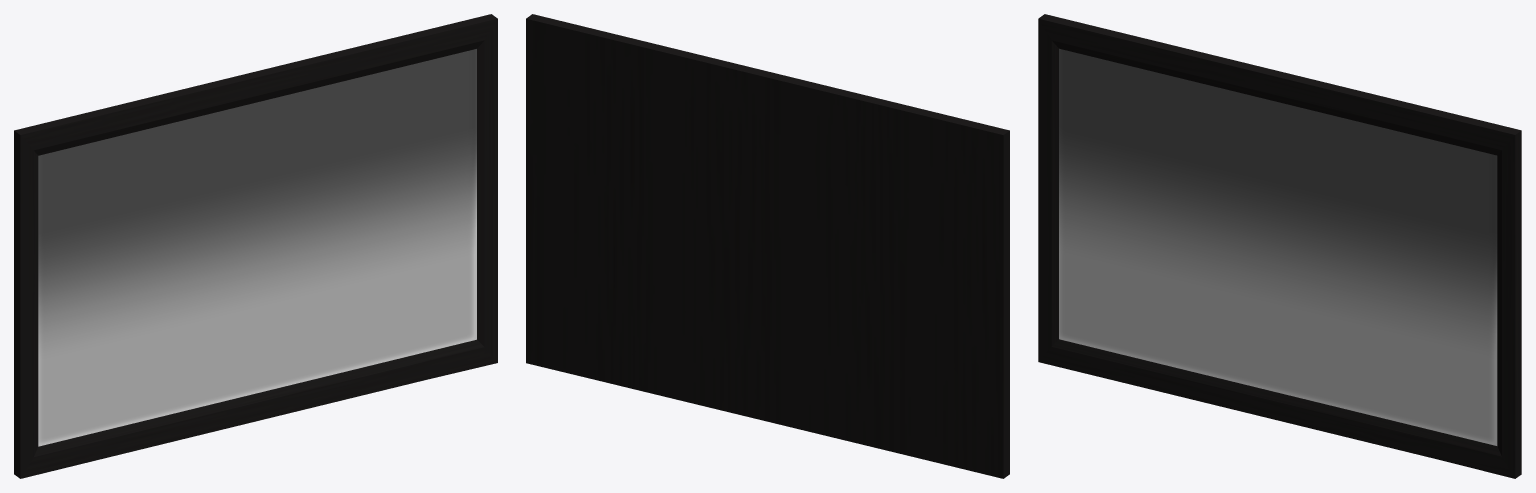
File: Mirror_F.FBX
The picture shows the model from 3 angles, left to right: view 1: azimuth 30°, elevation 25°; view 2: azimuth 150°, elevation 25°; view 3: azimuth 330°, elevation 25°; orthographic projection.
Visible parts, largest first — view 1: Mirror; view 2: Mirror; view 3: Mirror.
Part boxes in pixels (x1,y1,x2,y2): Mirror: (14,14,497,478); Mirror: (526,14,1009,478); Mirror: (1038,14,1521,478).
Size of the model in its own units: 238 by 164 by 5.52.
